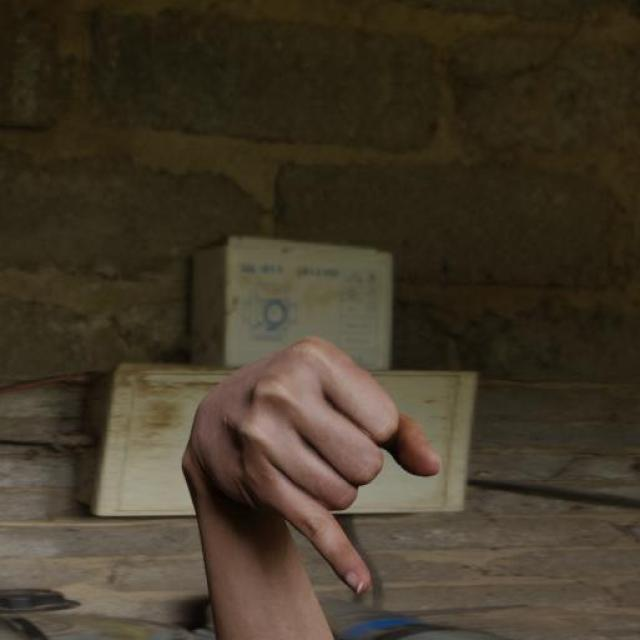J: (162, 326, 472, 622)
